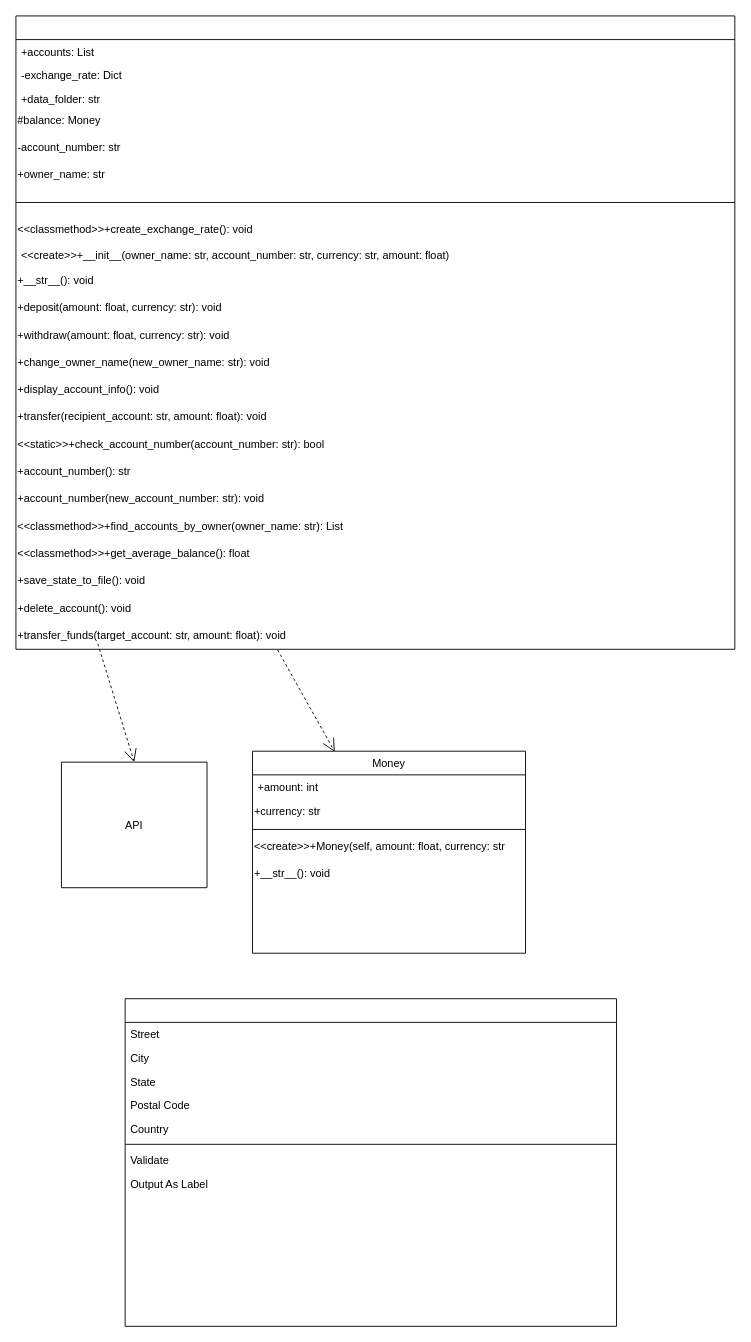
Some shapes in this 751 by 1342 pixel diagram are drawn without their labels. Each missing label, with the box of its shape:
Address: (124, 998, 617, 1326)
BankAccount: (15, 15, 735, 649)
